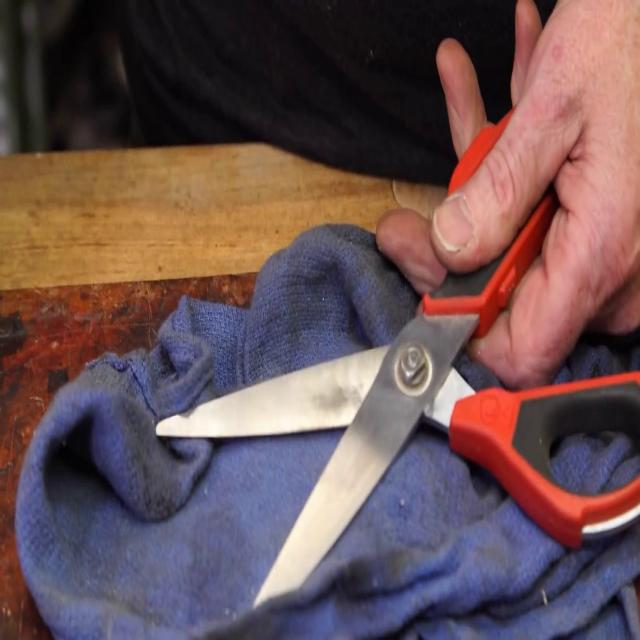scissor: (154, 104, 640, 607)
